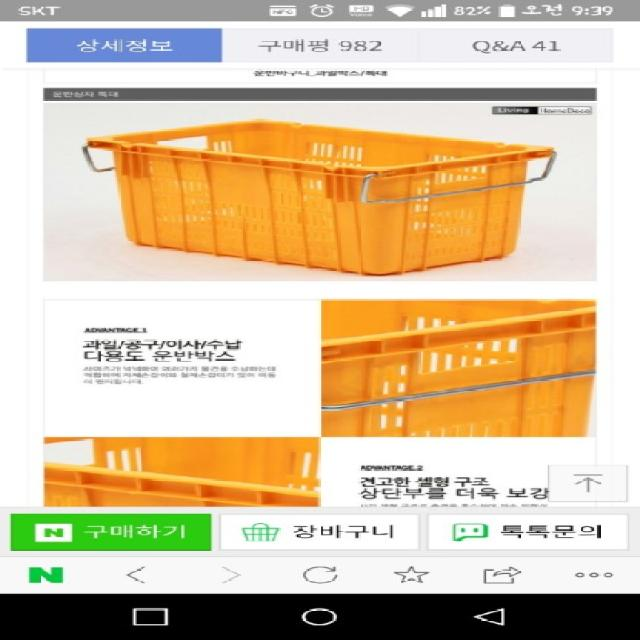basket: (75, 102, 556, 292), (320, 301, 596, 437), (43, 438, 318, 508)
